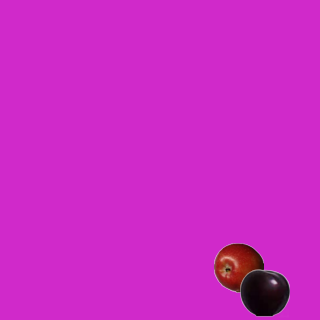Apple Braeburn: (213, 242, 263, 292)
Cherry Wax Black: (239, 267, 289, 317)
